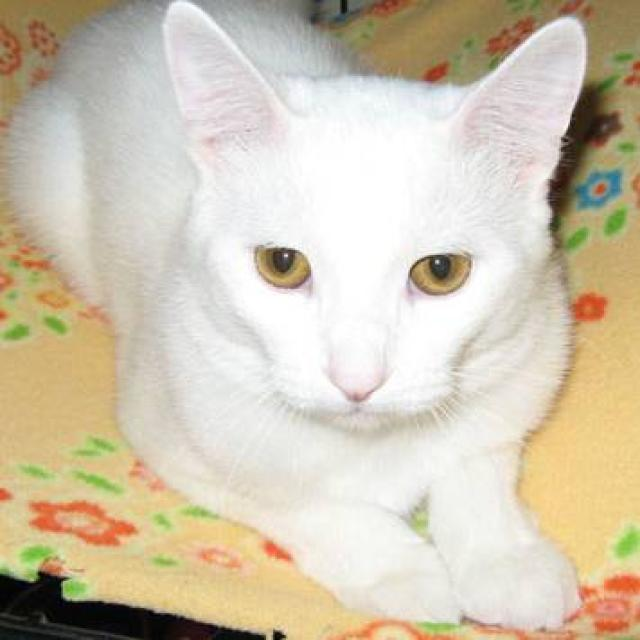cat: (0, 0, 588, 630)
